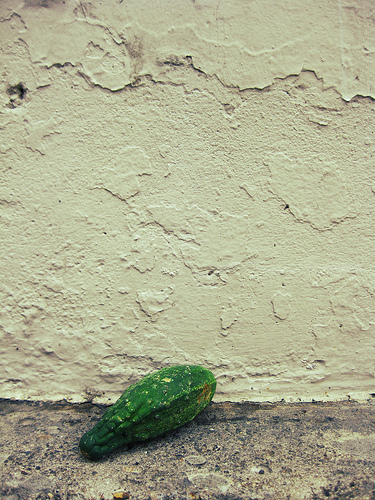cucumber: (77, 362, 216, 460)
